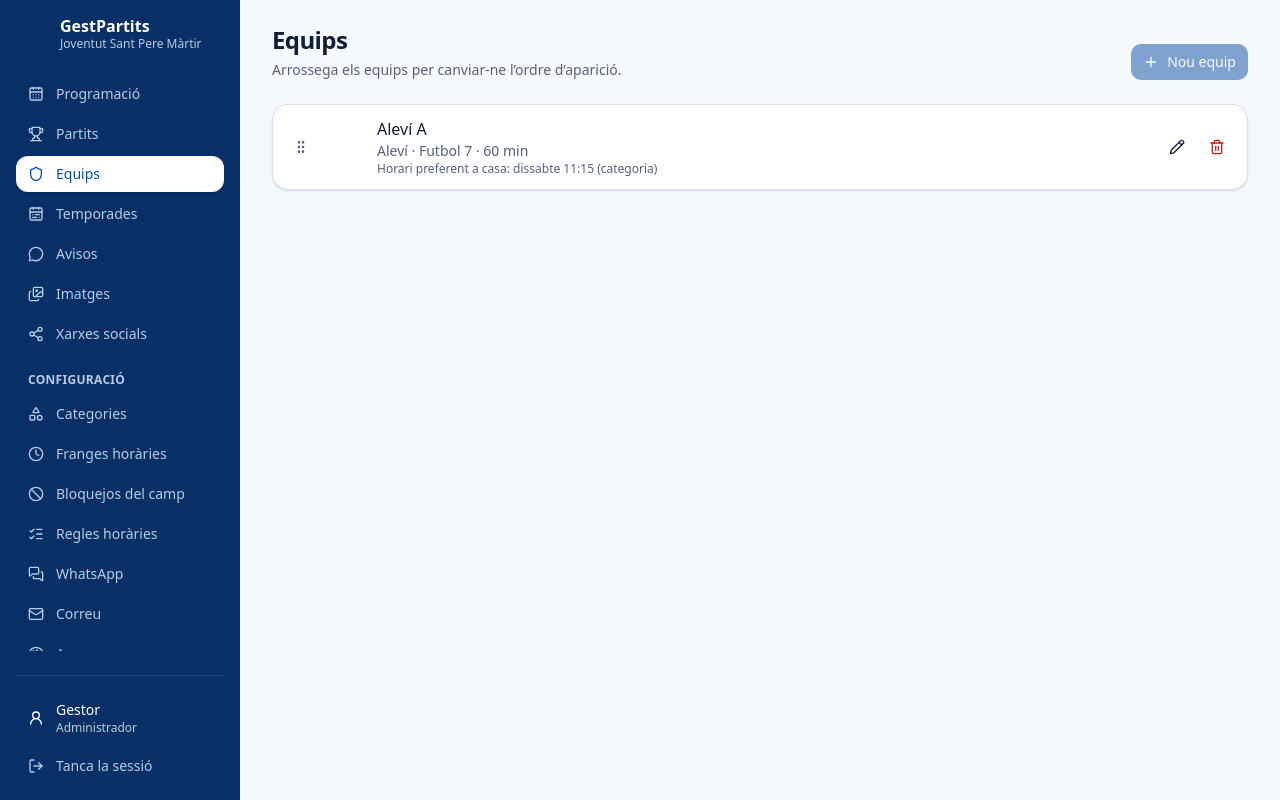
Test: horari preferent des de la fitxa de l’equip › mostra l’horari heretat de la categoria si l’equip no en té de propi
Expected: the text "Horari preferent a casa: dissabte 11:15 (categoria)" is shown, top-left (377, 160), bottom-right (657, 177)
Step 1. Click the button named "Edita: Aleví A" → (1177, 147), box top-left (1159, 129), bottom-right (1195, 165)
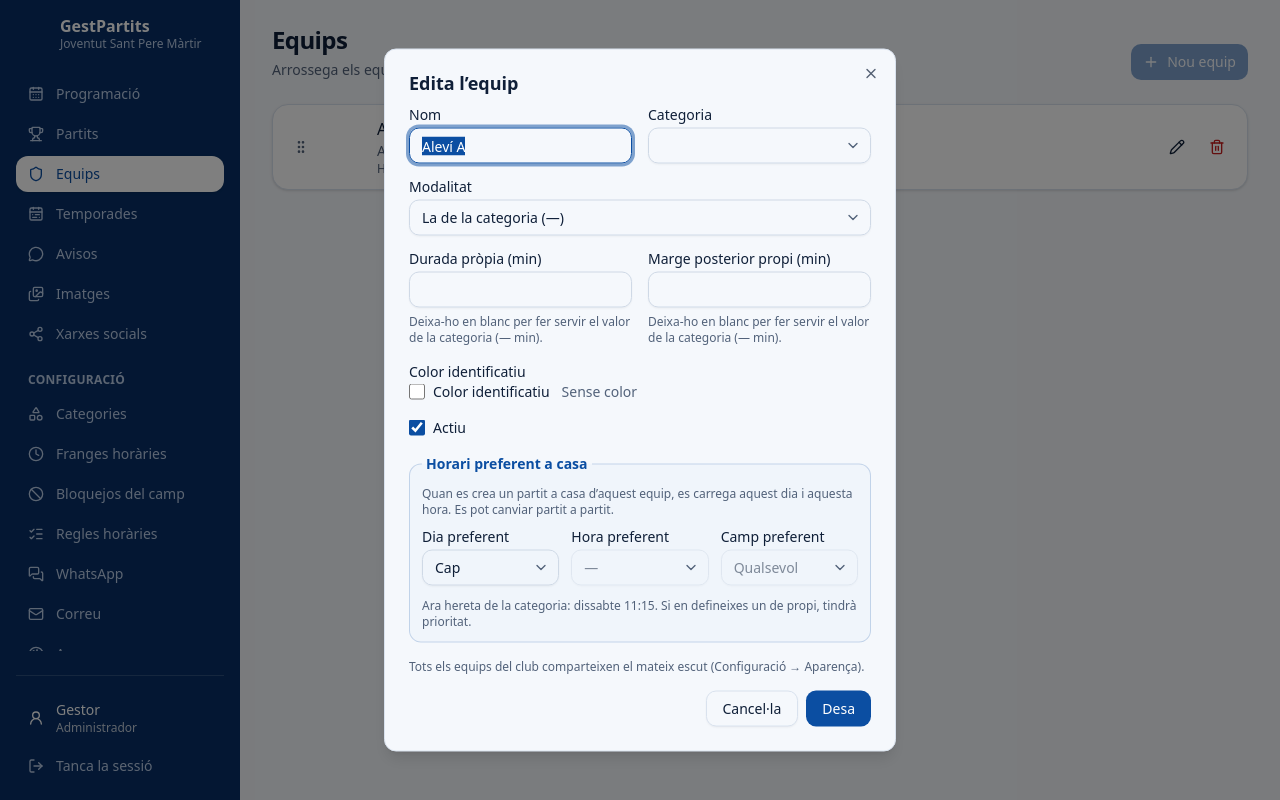
Expected: the text "Ara hereta de la categoria: dissabte 11:15" is shown, top-left (422, 596), bottom-right (856, 630)
